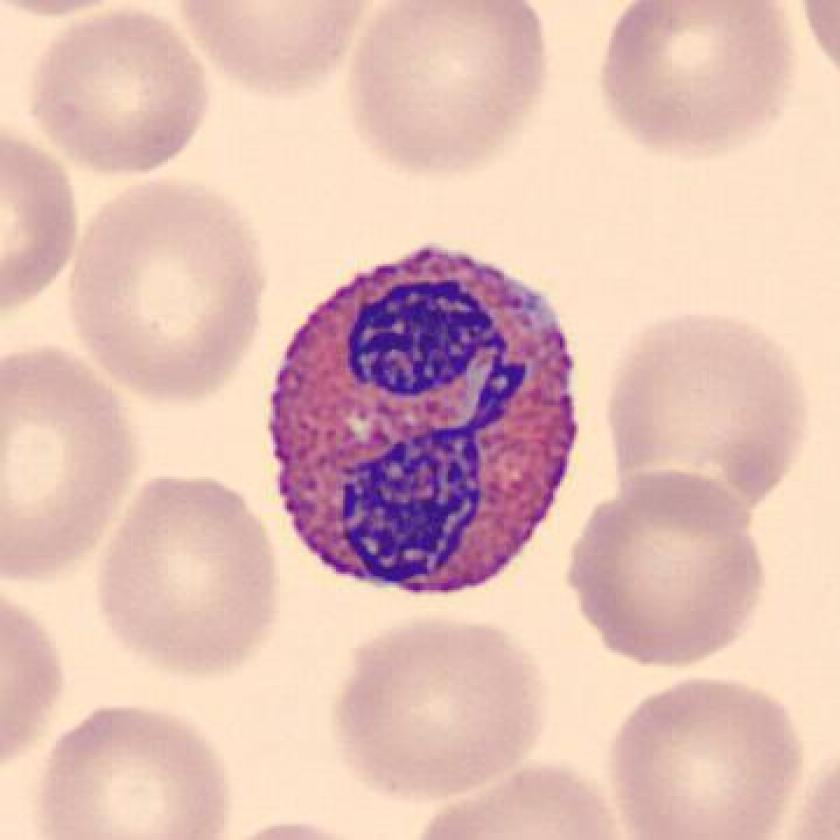eosinophil: (251, 225, 591, 612)
